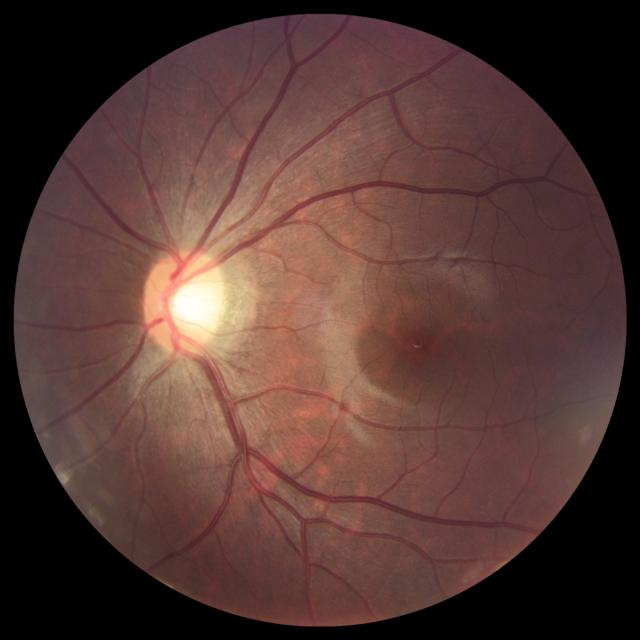OC: (168, 274, 220, 331)
OD: (141, 247, 227, 353)
